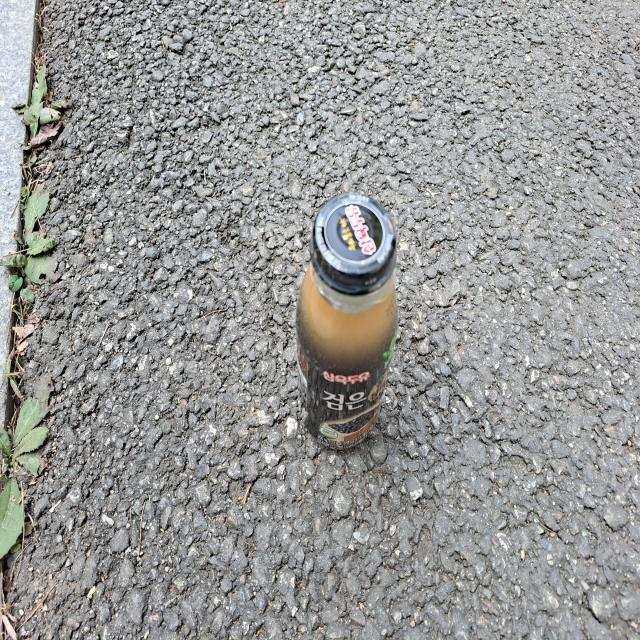glass: (296, 192, 398, 450)
